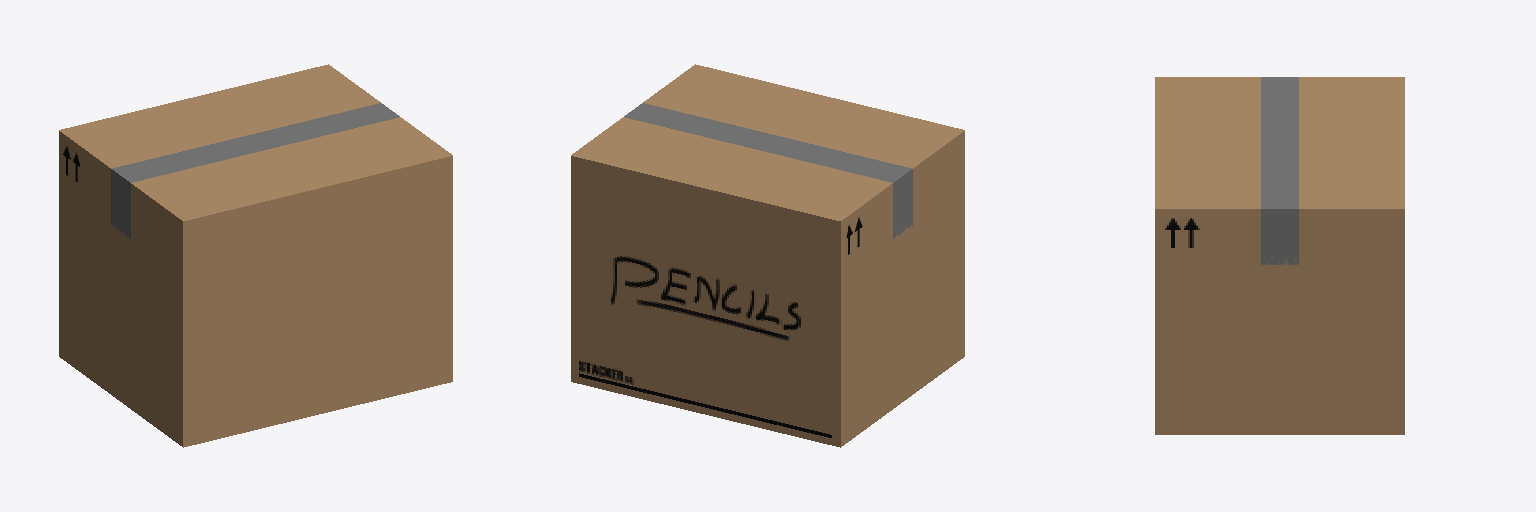
The picture shows the model from 3 angles: view 1: azimuth 30°, elevation 25°; view 2: azimuth 150°, elevation 25°; view 3: azimuth 270°, elevation 25°; orthographic projection.
Parts seen in each view (by area): view 1: Cube; view 2: Cube; view 3: Cube.
Boxes of the visible parts, x1,y1,x2,y2 form: Cube: [59, 64, 452, 447]; Cube: [571, 64, 964, 447]; Cube: [1155, 77, 1404, 434].
Size of the model in its own units: 1.25 by 1 by 1.
Materials: 1 (1 with a texture image).